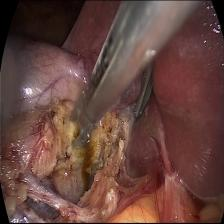Clipper: (67, 86, 94, 163)
Grasper: (132, 62, 160, 124)
